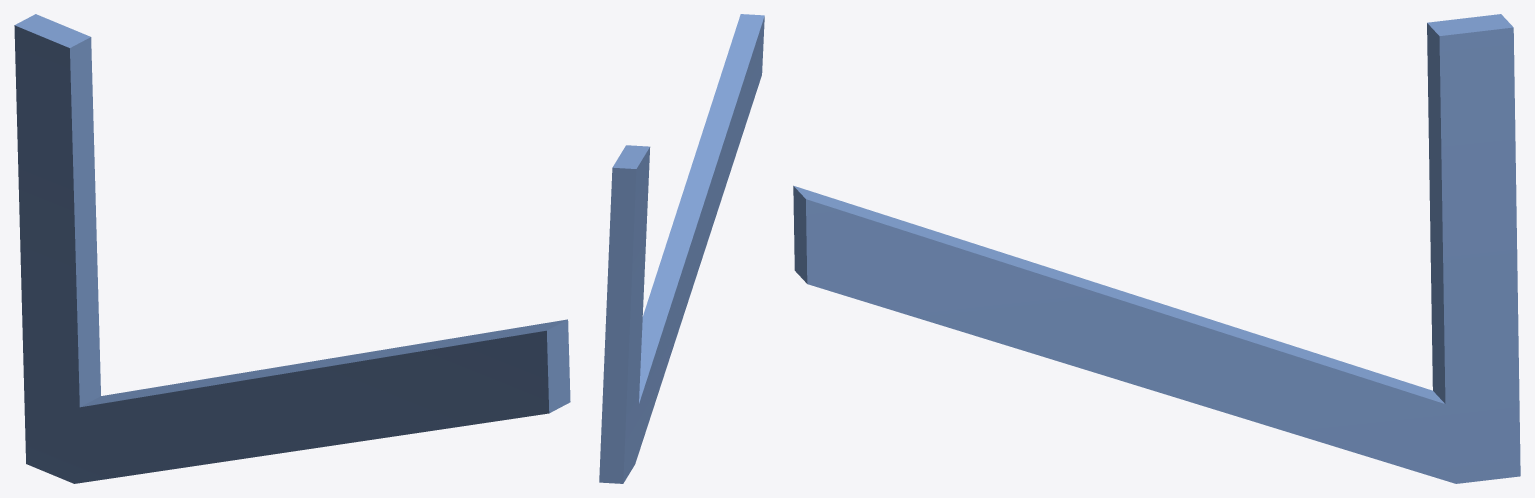
Rendered from New_Number_7.gltf.
The picture shows the model from 3 angles, left to right: view 1: azimuth 30°, elevation 25°; view 2: azimuth 150°, elevation 25°; view 3: azimuth 270°, elevation 25°; orthographic projection. The views are drawn at different scales.
Parts seen in each view (by area): view 1: Part 592; view 2: Part 592; view 3: Part 592.
Boxes of the visible parts, bbox=[...] form: Part 592: bbox=[14, 14, 570, 483]; Part 592: bbox=[599, 14, 764, 483]; Part 592: bbox=[793, 14, 1520, 483].
Bounding box in the file's own units: 0.00178 × 0.00366 × 0.00546.
